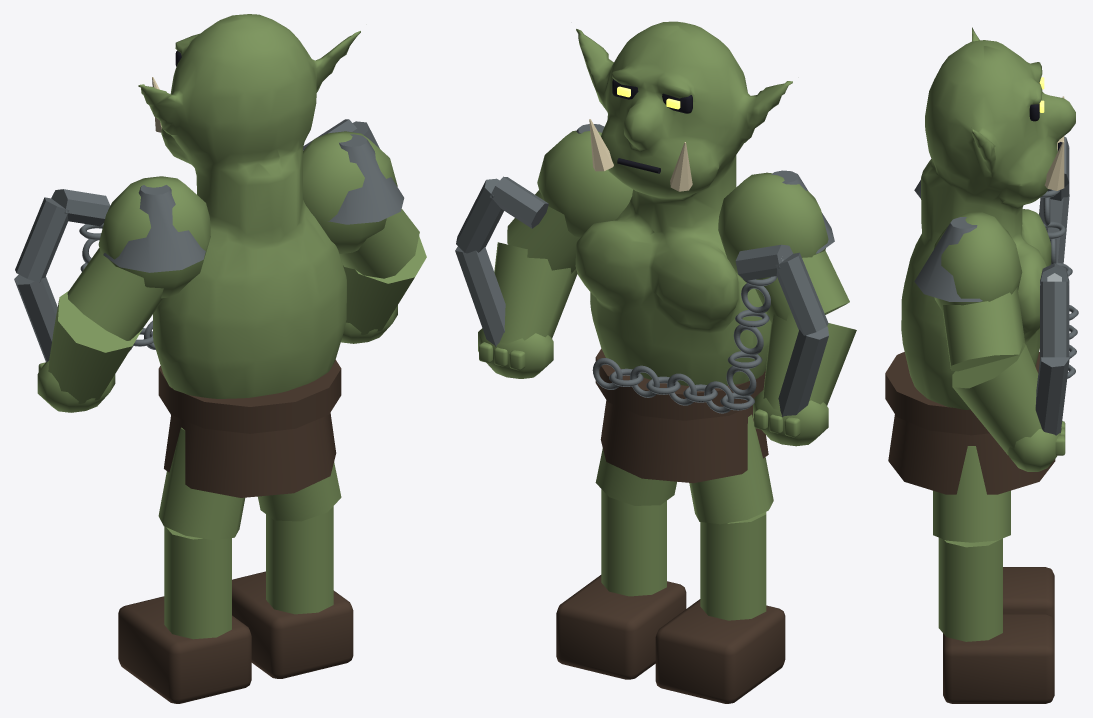
The model's file is host_11.glb.
3 views of the same model, side by side, from view 1: azimuth 30°, elevation 25°; view 2: azimuth 150°, elevation 25°; view 3: azimuth 270°, elevation 25° (orthographic). The views are drawn at different scales.
Parts seen in each view (by area): view 1: mesh_Skin.002, mesh_Skin.003, mesh_Leather.002, mesh_Iron.009, mesh_Skin.004, mesh_Skin.010, mesh_Leather.010, mesh_Skin.001, mesh_Leather.001; view 2: mesh_Skin.002, mesh_Iron.009, mesh_Skin.004, mesh_Skin.003, mesh_Leather.002, mesh_Skin.010, mesh_Leather.010, mesh_Leather.001, mesh_Skin.001, mesh_Bone.008, mesh_Dark.010; view 3: mesh_Skin.002, mesh_Skin.004, mesh_Skin.001, mesh_Leather.002, mesh_Iron.009, mesh_Leather.001, mesh_Leather.010, mesh_Bone.008.
Part boxes in pixels (<box>): mesh_Skin.002: <box>138,14,360,398</box>; mesh_Skin.003: <box>37,176,210,412</box>; mesh_Leather.002: <box>158,360,341,497</box>; mesh_Iron.009: <box>14,119,404,361</box>; mesh_Skin.004: <box>303,131,426,343</box>; mesh_Skin.010: <box>158,427,245,639</box>; mesh_Leather.010: <box>118,596,251,703</box>; mesh_Skin.001: <box>258,462,341,614</box>; mesh_Leather.001: <box>232,571,353,678</box>; mesh_Skin.002: <box>575,21,792,385</box>; mesh_Iron.009: <box>455,124,834,416</box>; mesh_Skin.004: <box>478,130,632,378</box>; mesh_Skin.003: <box>718,172,856,446</box>; mesh_Leather.002: <box>595,348,768,483</box>; mesh_Skin.010: <box>689,414,773,620</box>; mesh_Leather.010: <box>655,599,785,703</box>; mesh_Leather.001: <box>556,575,686,679</box>; mesh_Skin.001: <box>595,448,676,596</box>; mesh_Bone.008: <box>589,119,692,191</box>; mesh_Dark.010: <box>612,79,692,173</box>; mesh_Skin.002: <box>901,27,1075,409</box>; mesh_Skin.004: <box>934,212,1065,471</box>; mesh_Skin.001: <box>933,446,1010,641</box>; mesh_Leather.002: <box>885,352,1055,494</box>; mesh_Iron.009: <box>914,137,1078,435</box>; mesh_Leather.001: <box>943,614,1054,703</box>; mesh_Leather.010: <box>1003,567,1054,621</box>; mesh_Bone.008: <box>1044,96,1064,190</box>.
Bounding box in the file's own units: 1.23 × 2.01 × 0.5701.
